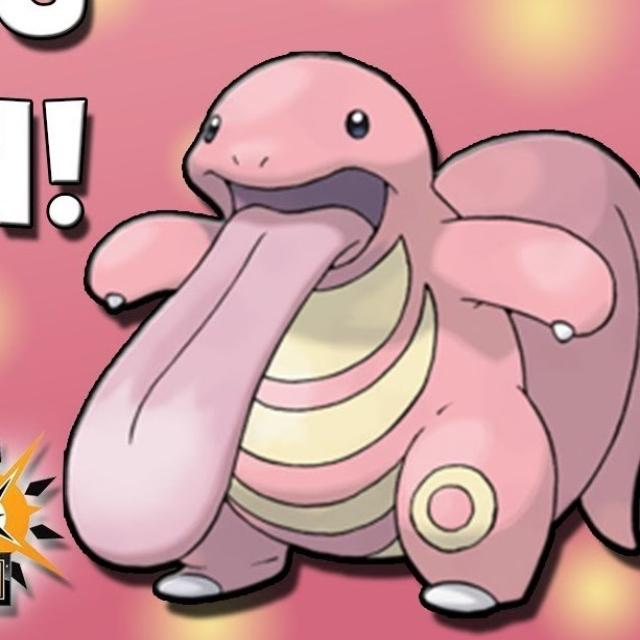Lickitung: (82, 50, 612, 604)
